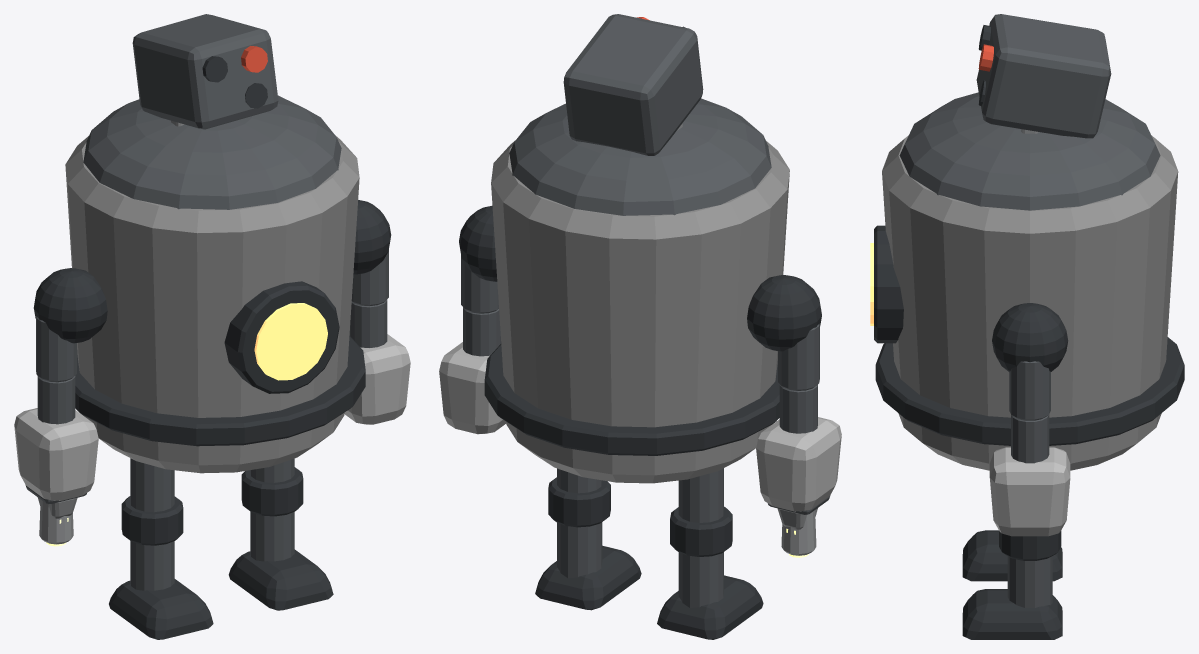
File: barril.glb
The picture shows the model from 3 angles, left to right: view 1: azimuth 30°, elevation 25°; view 2: azimuth 150°, elevation 25°; view 3: azimuth 270°, elevation 25°; orthographic projection.
Visible parts, largest first — view 1: p_9, p_14, arma_misseis_31, p_10, p_25, p_12, p_13, p_22, p_4, p_8, p_20, p_6 (+12 smaller); view 2: p_9, p_14, arma_misseis_31, p_10, p_25, p_22, p_20, p_8, p_4, p_6, p_2, p_7 (+9 smaller); view 3: p_9, p_14, arma_misseis_31, p_10, p_20, p_4, p_17, p_12, p_8, p_18, p_3, p_19 (+1 smaller).
Boxes of the visible parts, bbox=[...] form: p_9: bbox=[65, 135, 359, 473]; p_14: bbox=[83, 95, 341, 209]; arma_misseis_31: bbox=[132, 14, 278, 129]; p_10: bbox=[75, 335, 365, 446]; p_25: bbox=[14, 408, 98, 500]; p_12: bbox=[224, 281, 339, 393]; p_13: bbox=[254, 303, 327, 380]; p_22: bbox=[33, 268, 107, 343]; p_4: bbox=[228, 549, 333, 610]; p_8: bbox=[109, 579, 213, 639]; p_20: bbox=[344, 334, 410, 424]; p_6: bbox=[121, 496, 183, 545]; p_9: bbox=[491, 140, 789, 483]; p_14: bbox=[509, 98, 771, 215]; arma_misseis_31: bbox=[563, 14, 703, 155]; p_10: bbox=[484, 344, 779, 455]; p_25: bbox=[756, 417, 841, 511]; p_22: bbox=[747, 275, 821, 351]; p_20: bbox=[439, 342, 506, 434]; p_8: bbox=[657, 575, 763, 639]; p_4: bbox=[535, 545, 641, 610]; p_6: bbox=[670, 506, 732, 556]; p_2: bbox=[548, 477, 610, 527]; p_7: bbox=[678, 552, 723, 607]; p_9: bbox=[882, 135, 1178, 470]; p_14: bbox=[899, 92, 1160, 210]; arma_misseis_31: bbox=[976, 14, 1111, 138]; p_10: bbox=[875, 337, 1184, 445]; p_20: bbox=[989, 447, 1070, 536]; p_4: bbox=[962, 589, 1062, 639]; p_17: bbox=[992, 303, 1068, 371]; p_12: bbox=[874, 225, 903, 343]; p_8: bbox=[962, 530, 1062, 581]; p_18: bbox=[1009, 361, 1050, 420]; p_3: bbox=[1007, 556, 1052, 607]; p_19: bbox=[1011, 414, 1049, 463].
Size of the model in its own units: 1.23 by 1.81 by 0.905.
